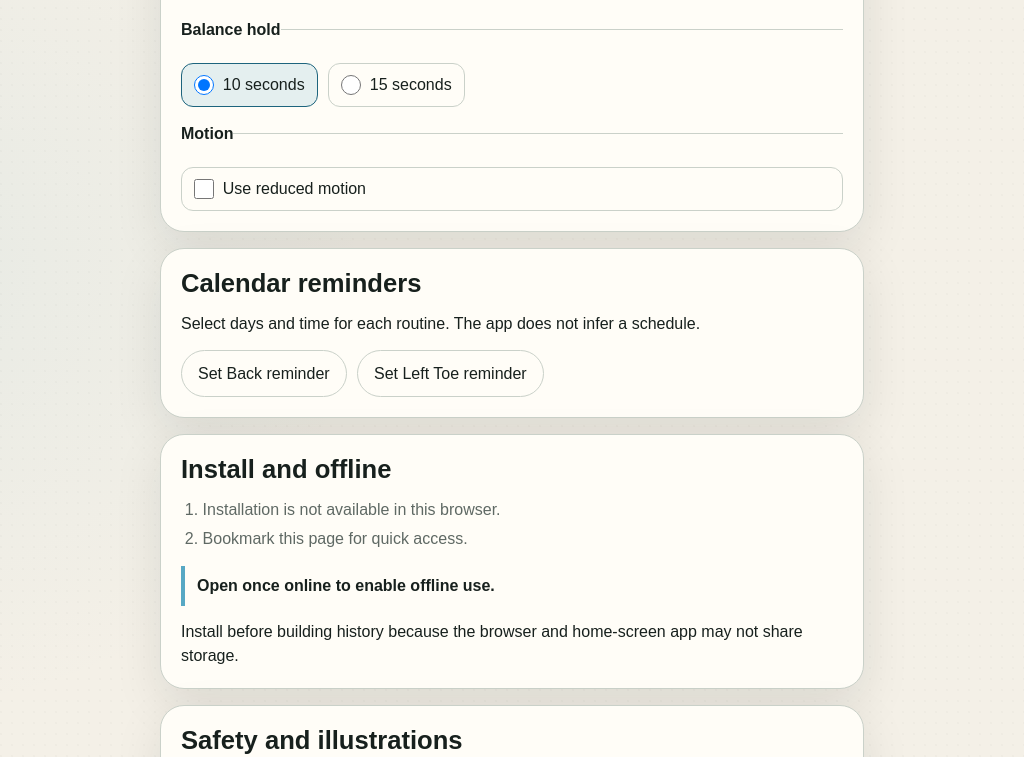
Test: SettingsScreen › opens independent Back and Left Toe reminder drafts with no selected days
(page scrolled)
Step 1. Click the button "Set Back reminder" → (264, 374), box [181,350,347,397]
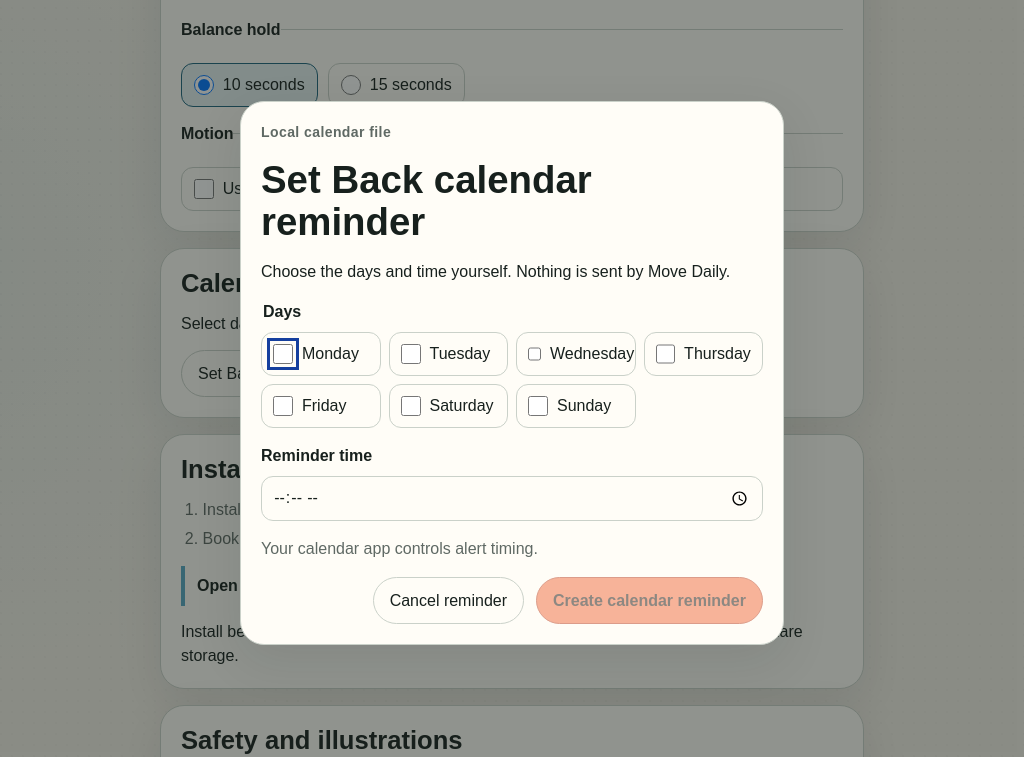
Step 2. Click the checkbox labelled "Monday" → (283, 354), box [273,344,293,364]
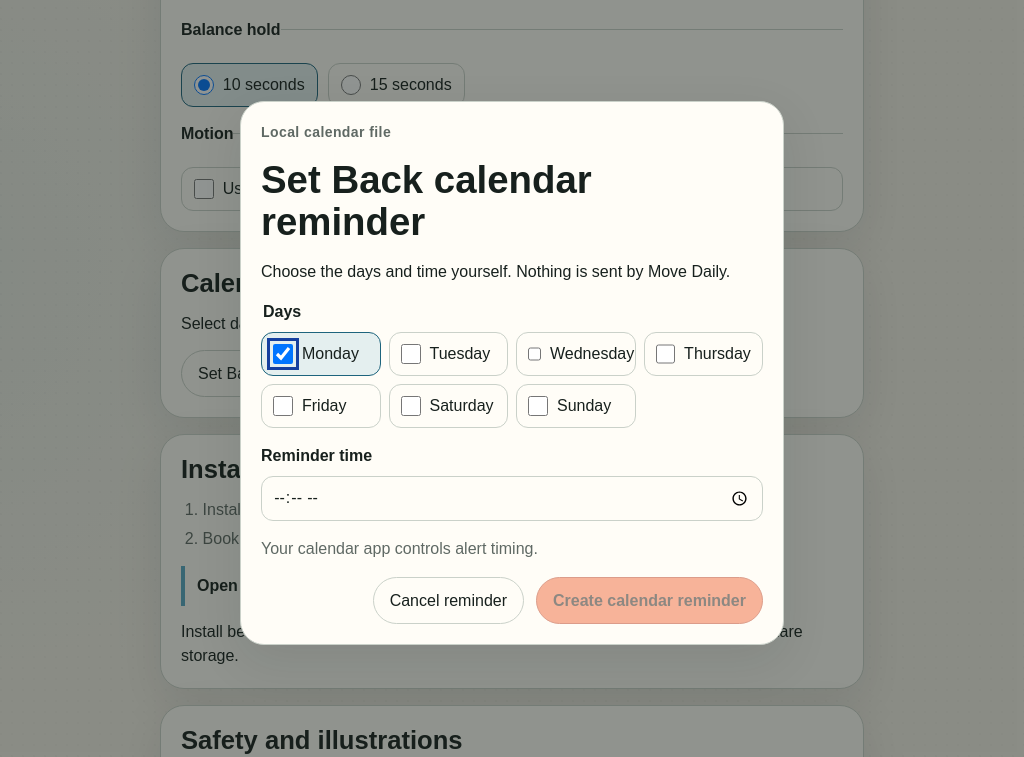
Step 3. Click the button "Cancel reminder" → (448, 600), box [373,577,524,624]
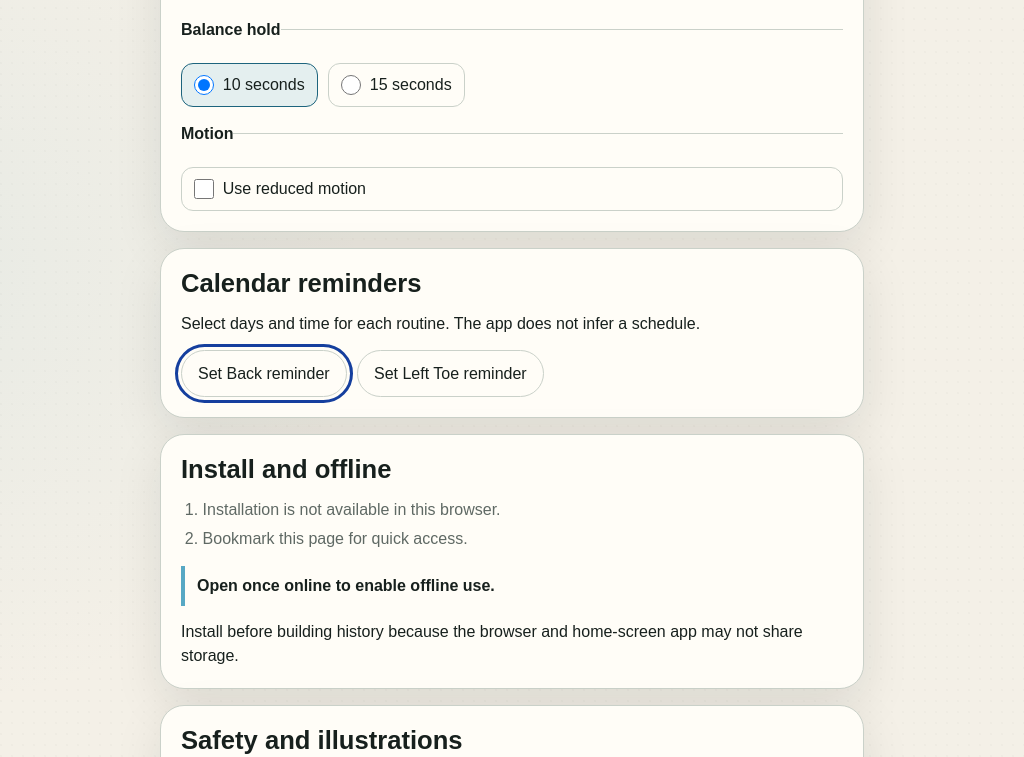
Step 4. Click the button "Set Left Toe reminder" → (450, 374), box [357,350,544,397]
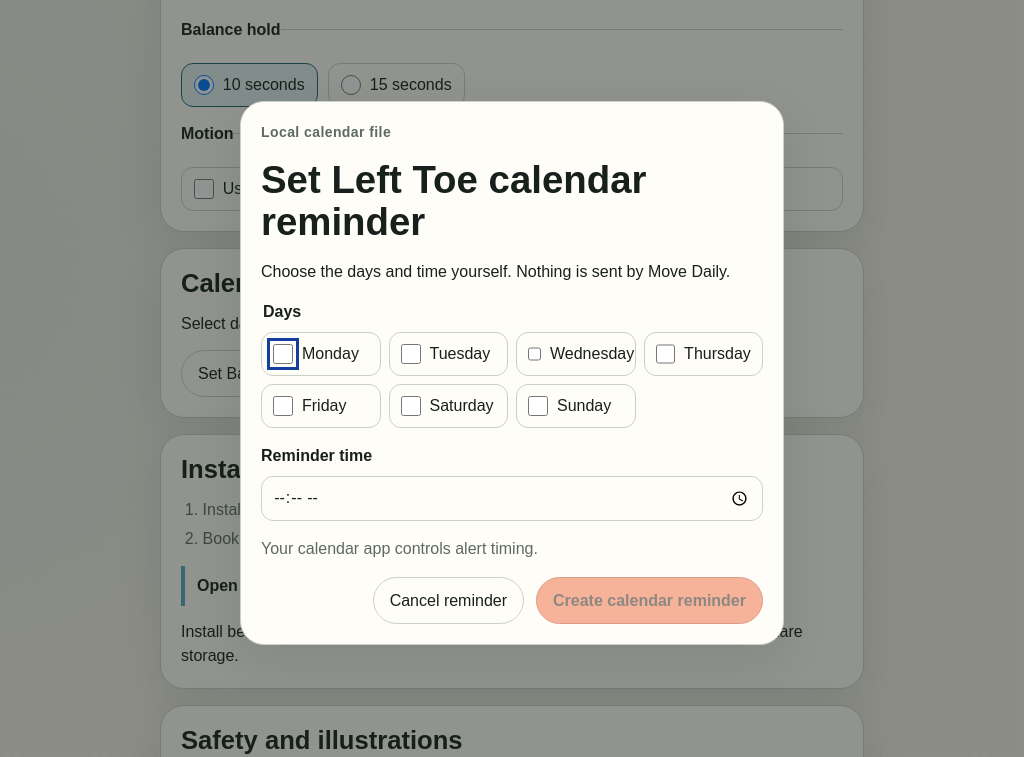
Check: the dialog "Set Left Toe calendar reminder" is shown, box [240,101,784,645]
